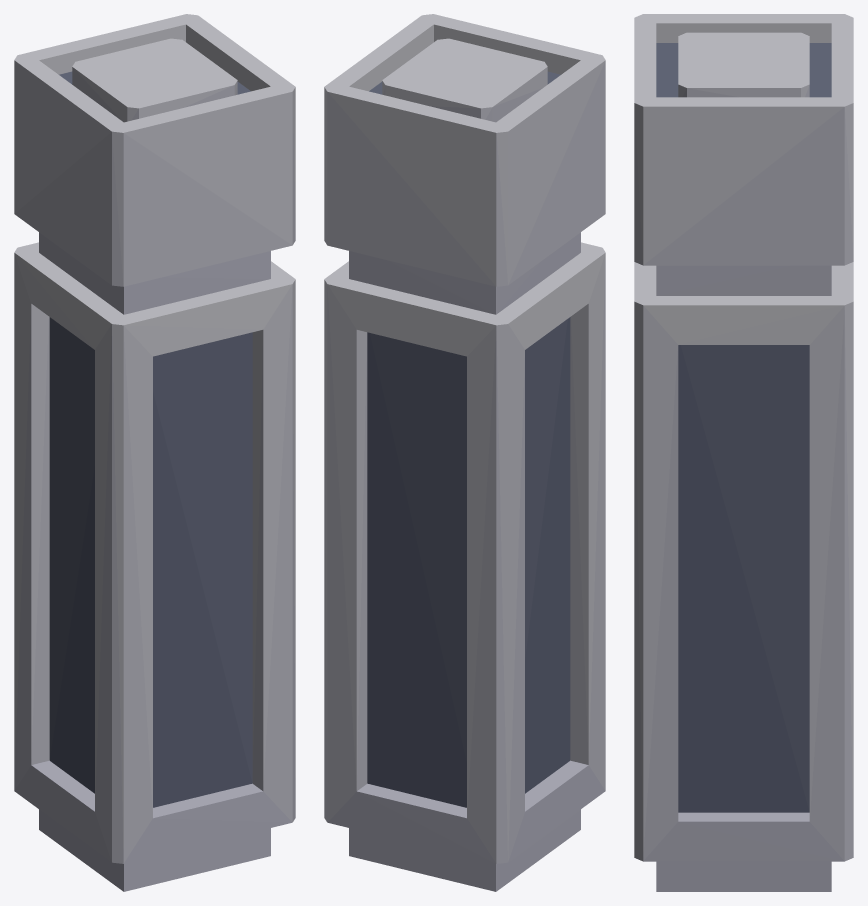
File: block_a.glb
3 views of the same model, side by side, from view 1: azimuth 30°, elevation 25°; view 2: azimuth 150°, elevation 25°; view 3: azimuth 270°, elevation 25° (orthographic). The views are drawn at different scales.
Parts seen in each view (by area): view 1: block_a; view 2: block_a; view 3: block_a.
Part boxes in pixels (bbox=[...]): block_a: bbox=[14, 14, 295, 891]; block_a: bbox=[324, 14, 605, 891]; block_a: bbox=[634, 14, 853, 891].
Size of the model in its own units: 0.5 by 2 by 0.5.
